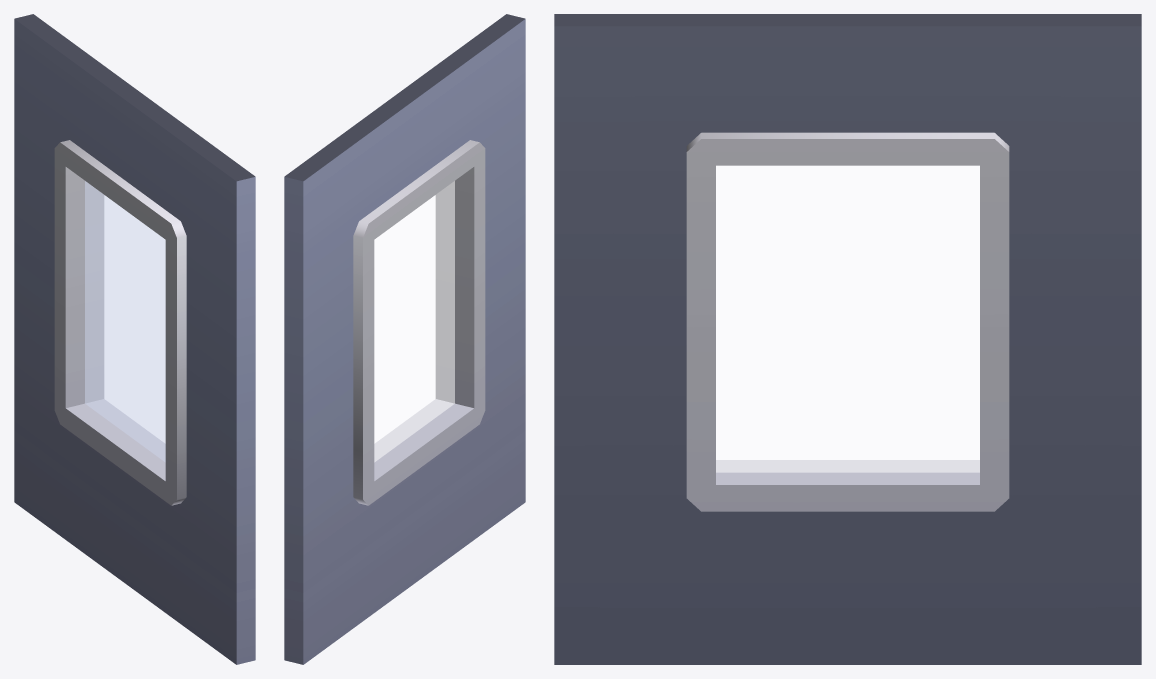
Rendered from wall-window-square.optimized.glb.
3 renders of one model, left to right at view 1: azimuth 30°, elevation 25°; view 2: azimuth 150°, elevation 25°; view 3: azimuth 270°, elevation 25°, orthographic. The views are drawn at different scales.
Visible parts, largest first — view 1: wall-window-square, (%ignore); view 2: wall-window-square, (%ignore); view 3: wall-window-square, (%ignore).
Part boxes in pixels (<box>): wall-window-square: <box>14,14,255,664</box>; (%ignore): <box>85,181,165,462</box>; wall-window-square: <box>284,14,525,664</box>; (%ignore): <box>374,181,454,462</box>; wall-window-square: <box>554,14,1141,664</box>; (%ignore): <box>716,165,979,472</box>.
Size of the model in its own units: 0.2001 by 2.4 by 2.
2 materials, 1 textured.
